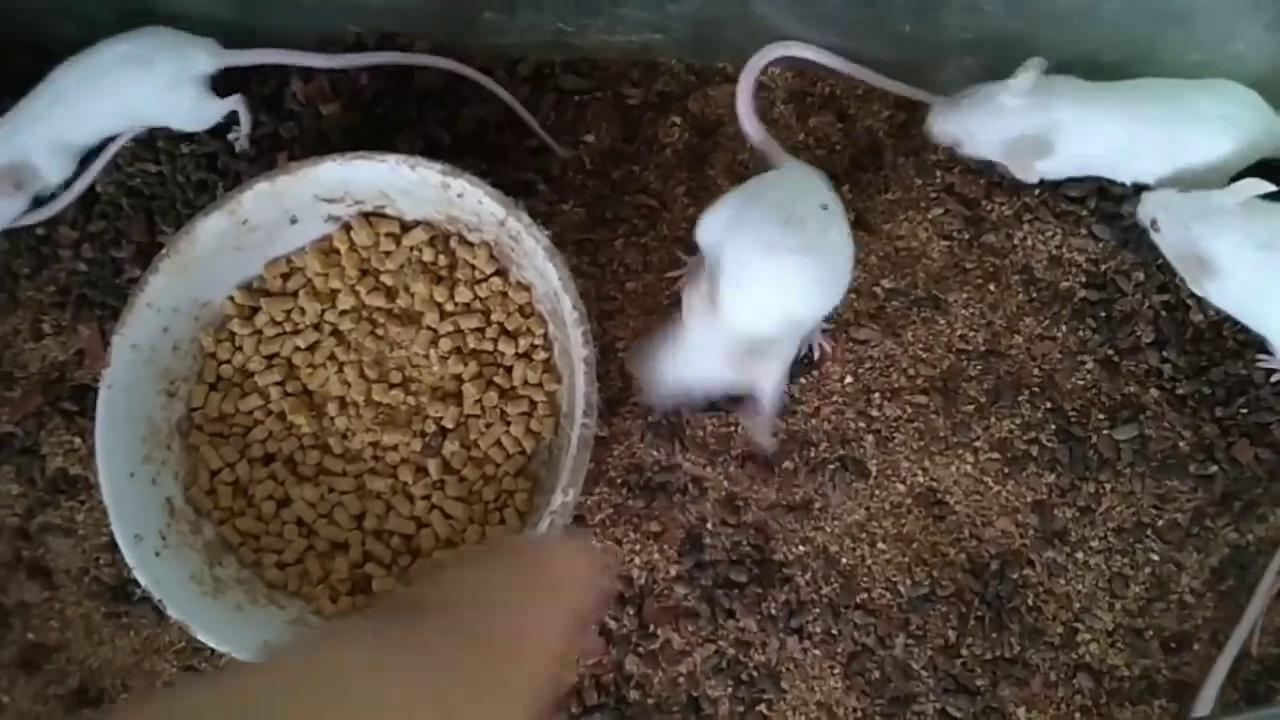rat: (628, 38, 942, 455), (0, 24, 572, 229), (922, 56, 1280, 190), (1137, 177, 1280, 384)
